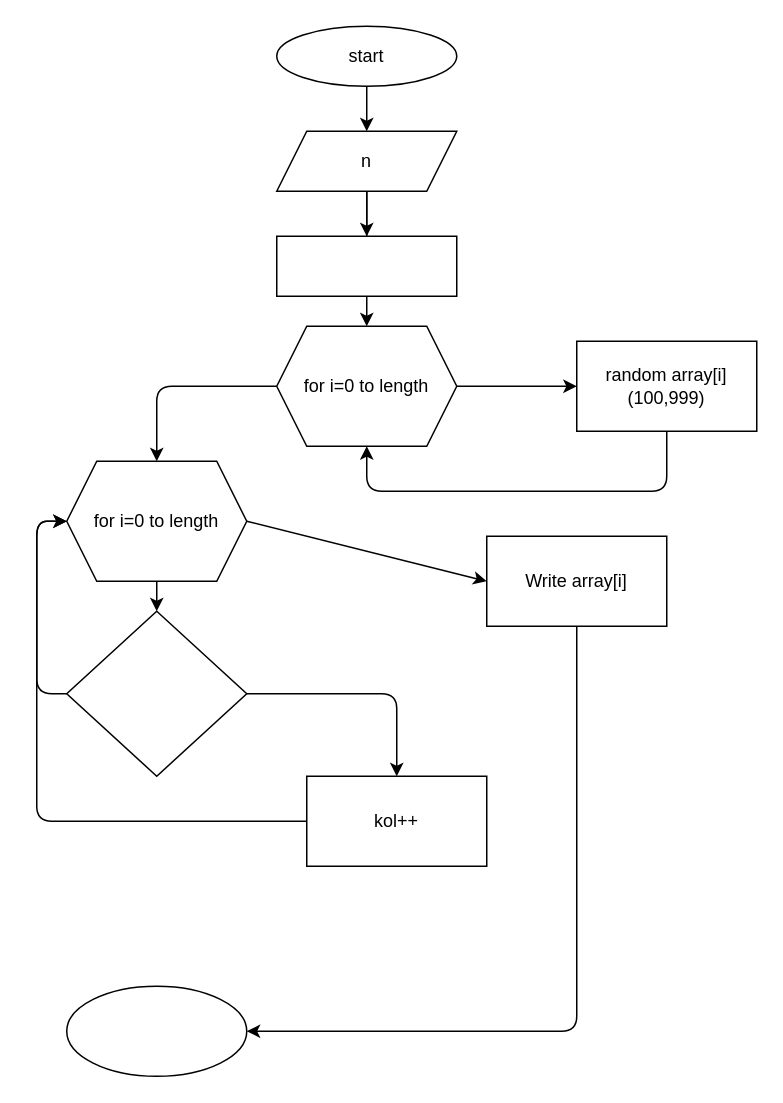
Some shapes in this 783 by 1103 pixel diagram are drawn without their labels. The centre of each missing label's shape, as x and y in pixels:
"if array [i] % 2 == 0" belongs at (x=156, y=693).
"kol=0" belongs at (x=366, y=265).
"stop" belongs at (x=156, y=1030).
